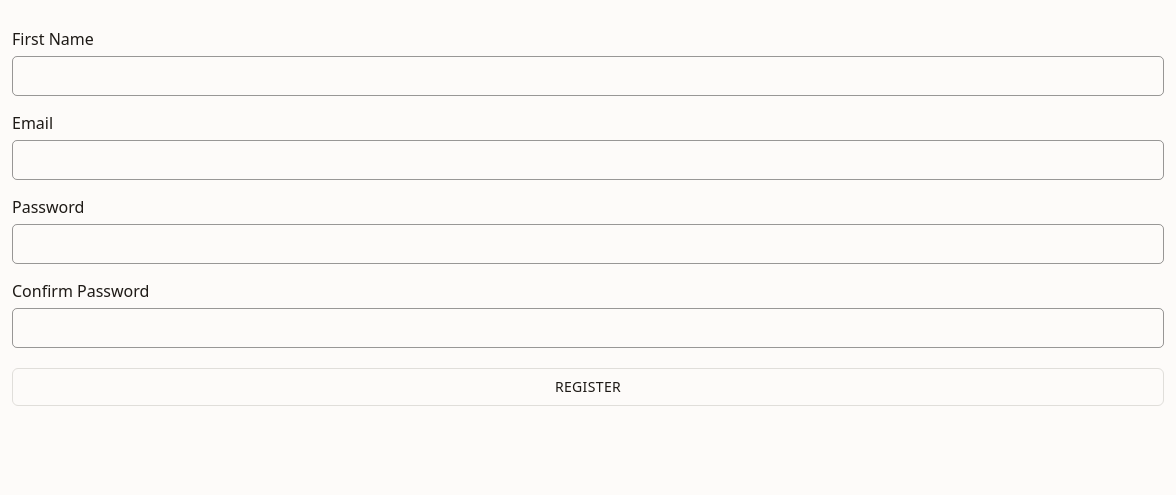
Test case: FormComponent › names the fields that are still missing
The image size is (1176, 495).
Type "Ada" into the field labelled "First Name". click: [588, 76]
box: [12, 56, 1164, 96]
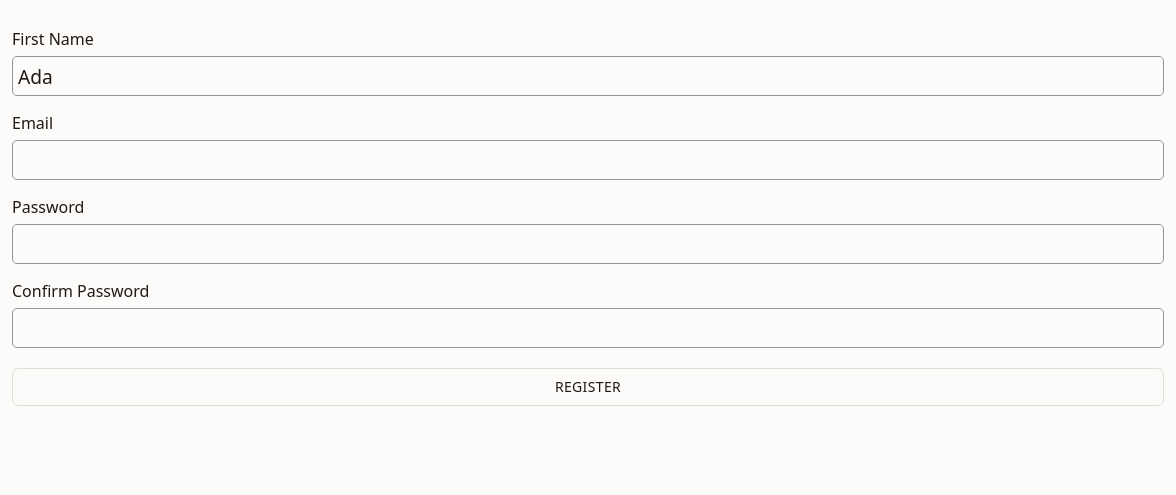
Click the button "Register". click: [588, 387]
box: [12, 368, 1164, 406]
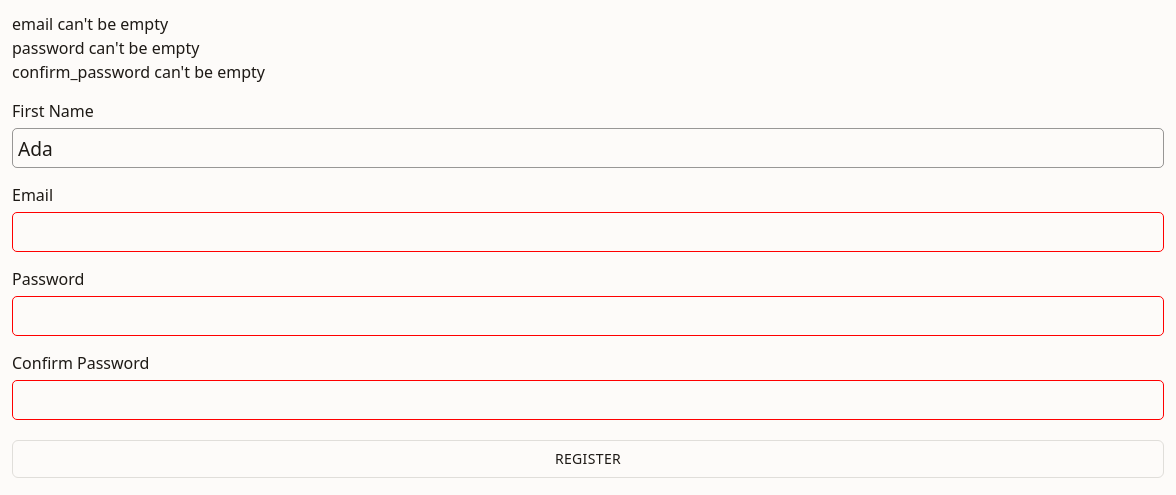
Expected: the list item "email can't be empty" is shown, [12, 13, 168, 35]
